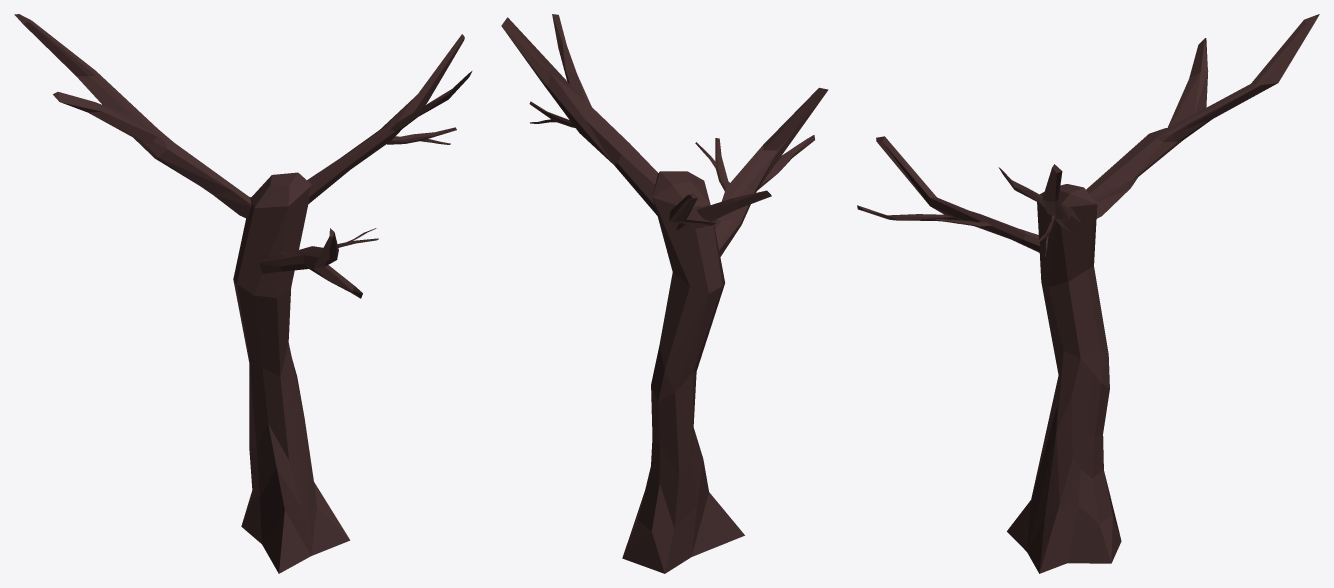
File: nomal_tree.fbx
3 renders of one model, left to right at view 1: azimuth 30°, elevation 25°; view 2: azimuth 150°, elevation 25°; view 3: azimuth 270°, elevation 25°, orthographic. The views are drawn at different scales.
Visible parts, largest first — view 1: Cylinder.011; view 2: Cylinder.011; view 3: Cylinder.011.
Boxes of the visible parts, x1,y1,x2,y2 form: Cylinder.011: (14,14,472,573); Cylinder.011: (501,14,828,573); Cylinder.011: (857,14,1319,573).
Size of the model in its own units: 1302 by 1745 by 1565.
